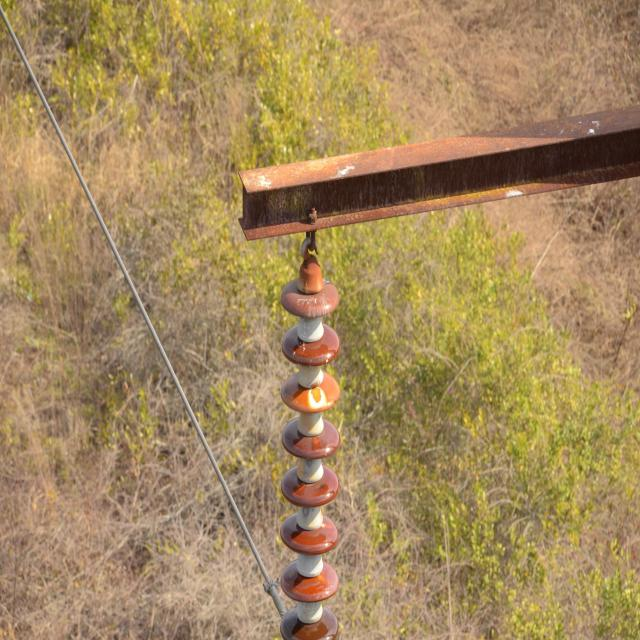insulator: (279, 280, 344, 639)
